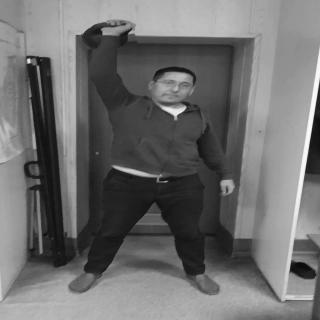kettlebell: (82, 22, 137, 50)
